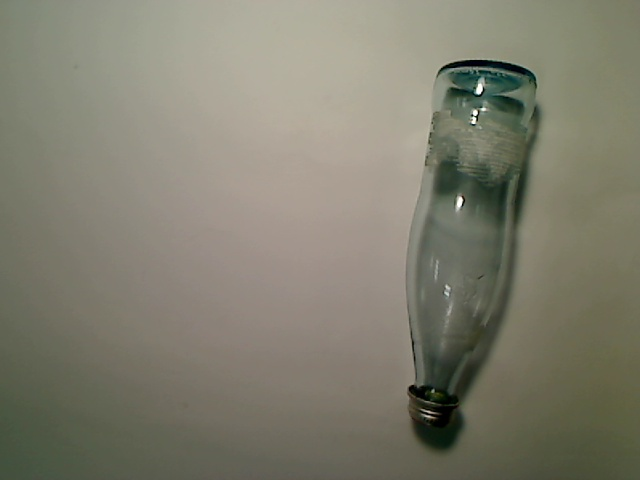bottle: (405, 60, 536, 428)
